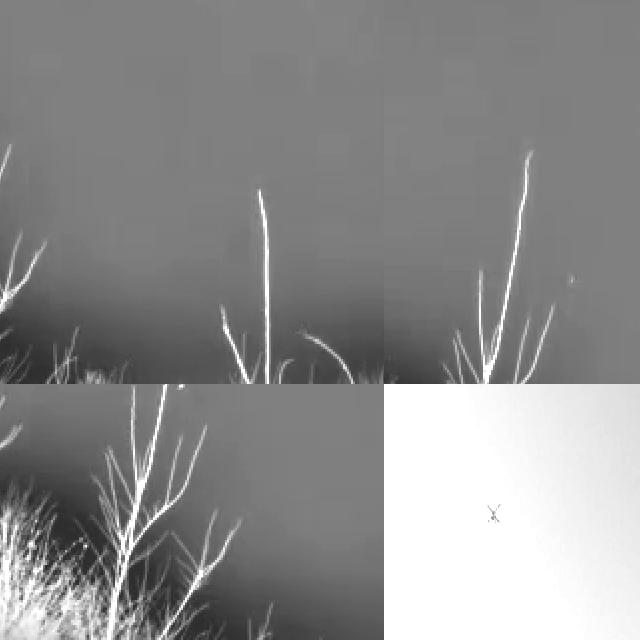0: (560, 266, 582, 294), (176, 384, 194, 398)
drone: (482, 499, 504, 531)
